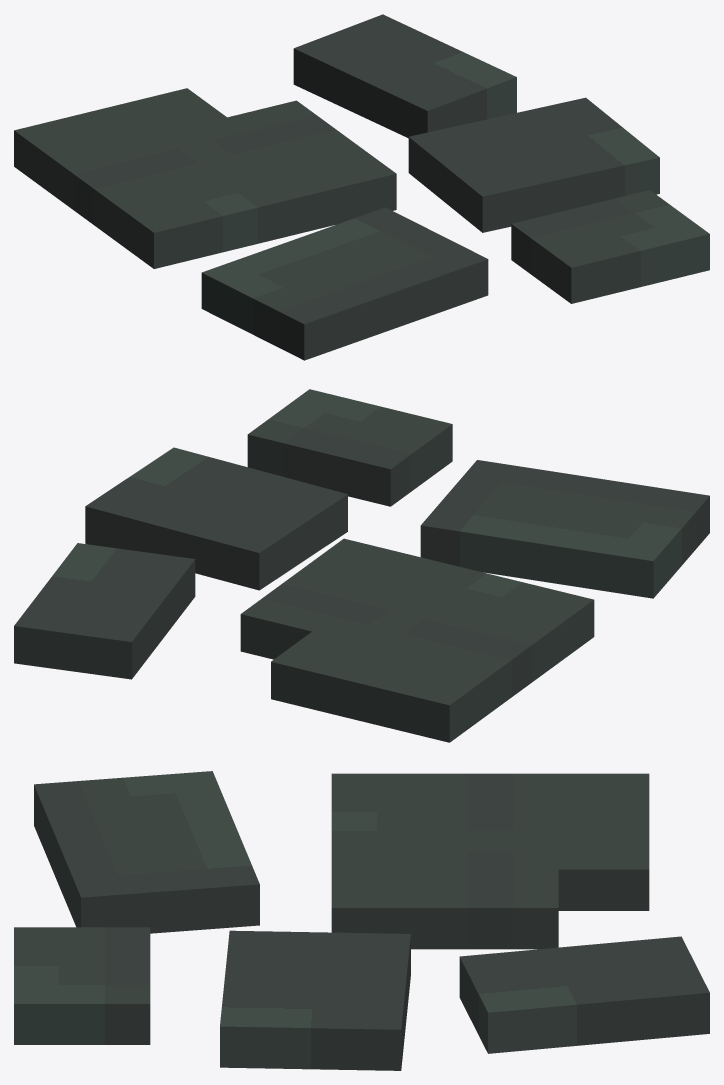
The model's file is deco_1x0x1_pathhaunted.gltf.
3 renders of one model, top to bottom at view 1: azimuth 30°, elevation 25°; view 2: azimuth 150°, elevation 25°; view 3: azimuth 270°, elevation 25°, orthographic. The views are drawn at different scales.
Visible parts, largest first — view 1: 8$$(1)-Local, P2-Local, P4-Local, p3-Local; view 2: 8$$(1)-Local, P2-Local, P4-Local, p3-Local; view 3: 8$$(1)-Local, P2-Local, P4-Local, p3-Local.
Part boxes in pixels (x1,y1,x2,y2): 8$$(1)-Local: [14, 88, 709, 303]; P2-Local: [201, 207, 488, 360]; P4-Local: [408, 97, 659, 232]; p3-Local: [293, 14, 516, 138]; 8$$(1)-Local: [240, 389, 594, 742]; P2-Local: [420, 460, 709, 598]; P4-Local: [85, 447, 347, 590]; p3-Local: [14, 543, 195, 679]; 8$$(1)-Local: [14, 773, 649, 1044]; P2-Local: [34, 771, 259, 933]; P4-Local: [220, 930, 410, 1070]; p3-Local: [459, 936, 709, 1053].
Size of the model in its own units: 13.49 by 1 by 15.33.
4 materials, 4 textured.
